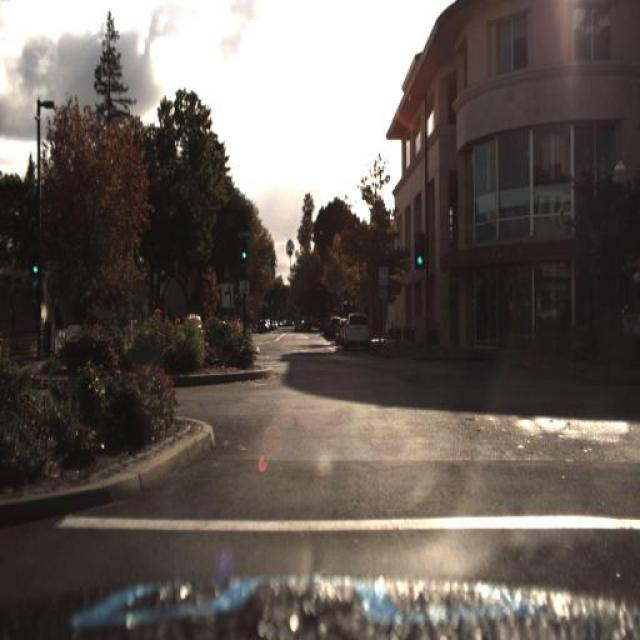car: (338, 316, 370, 360)
trafficLight: (556, 297, 572, 353)
trafficLight-Green: (232, 230, 250, 270), (27, 238, 42, 282), (412, 237, 427, 277)
trafficLight-GreenLeft: (239, 231, 250, 269), (28, 250, 36, 286)
